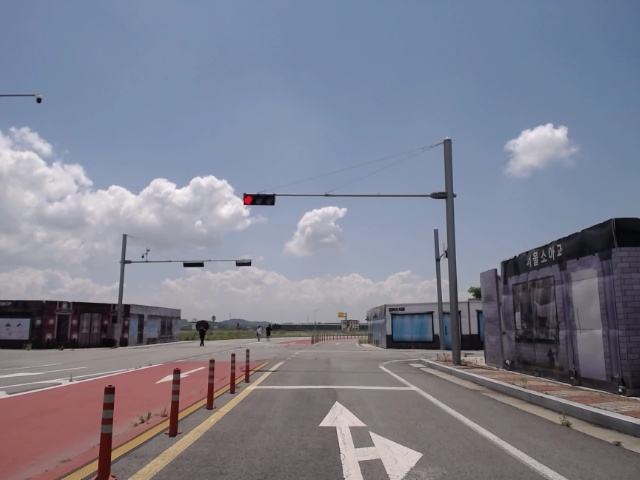red_3: (243, 193, 279, 205)
